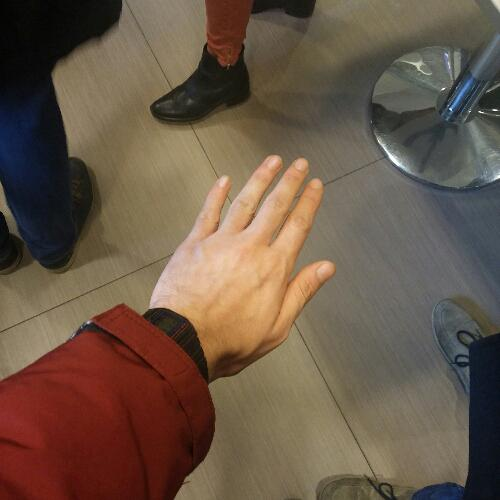paper: (138, 150, 352, 387)
